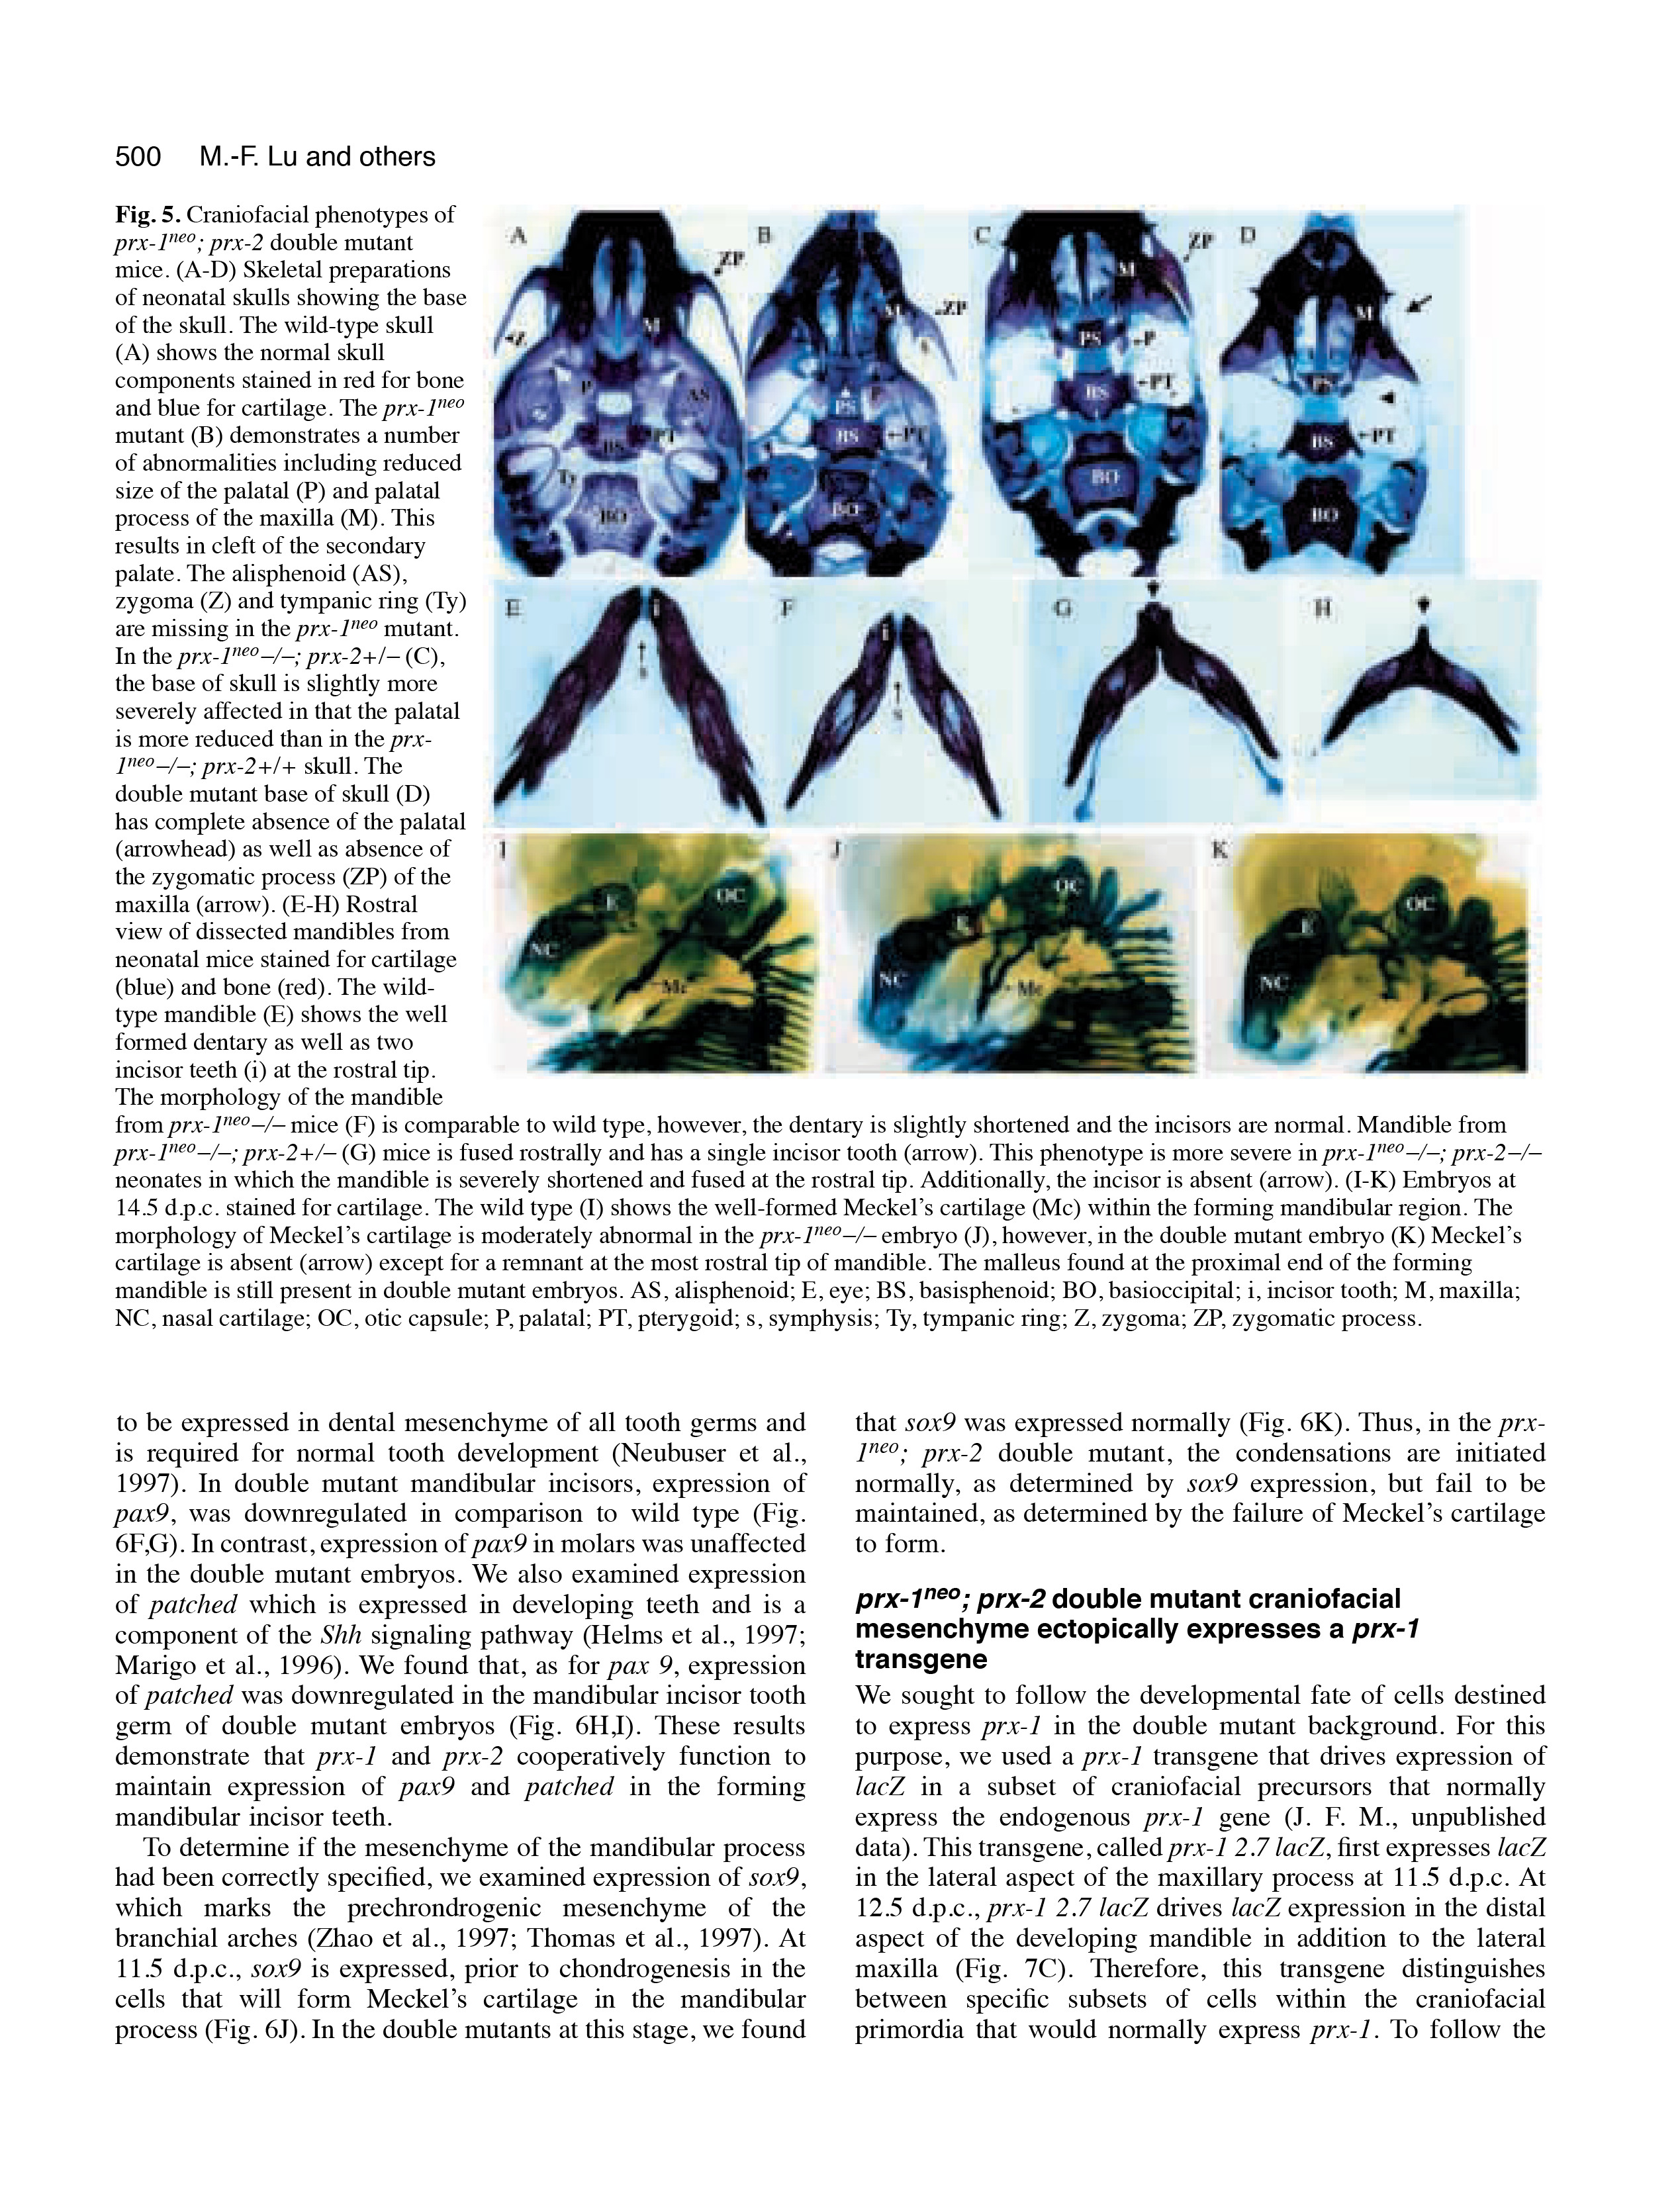caption: (97, 1103, 1544, 1350), (106, 196, 446, 1114)
figure: (506, 210, 1454, 579), (503, 590, 1523, 803), (469, 817, 817, 1073), (840, 830, 1174, 1096), (1214, 821, 1537, 1080)
section: (856, 1564, 1440, 1687)
text: (104, 1403, 798, 1823), (856, 1680, 1560, 2048), (109, 1839, 810, 2051), (847, 1400, 1549, 1564)
